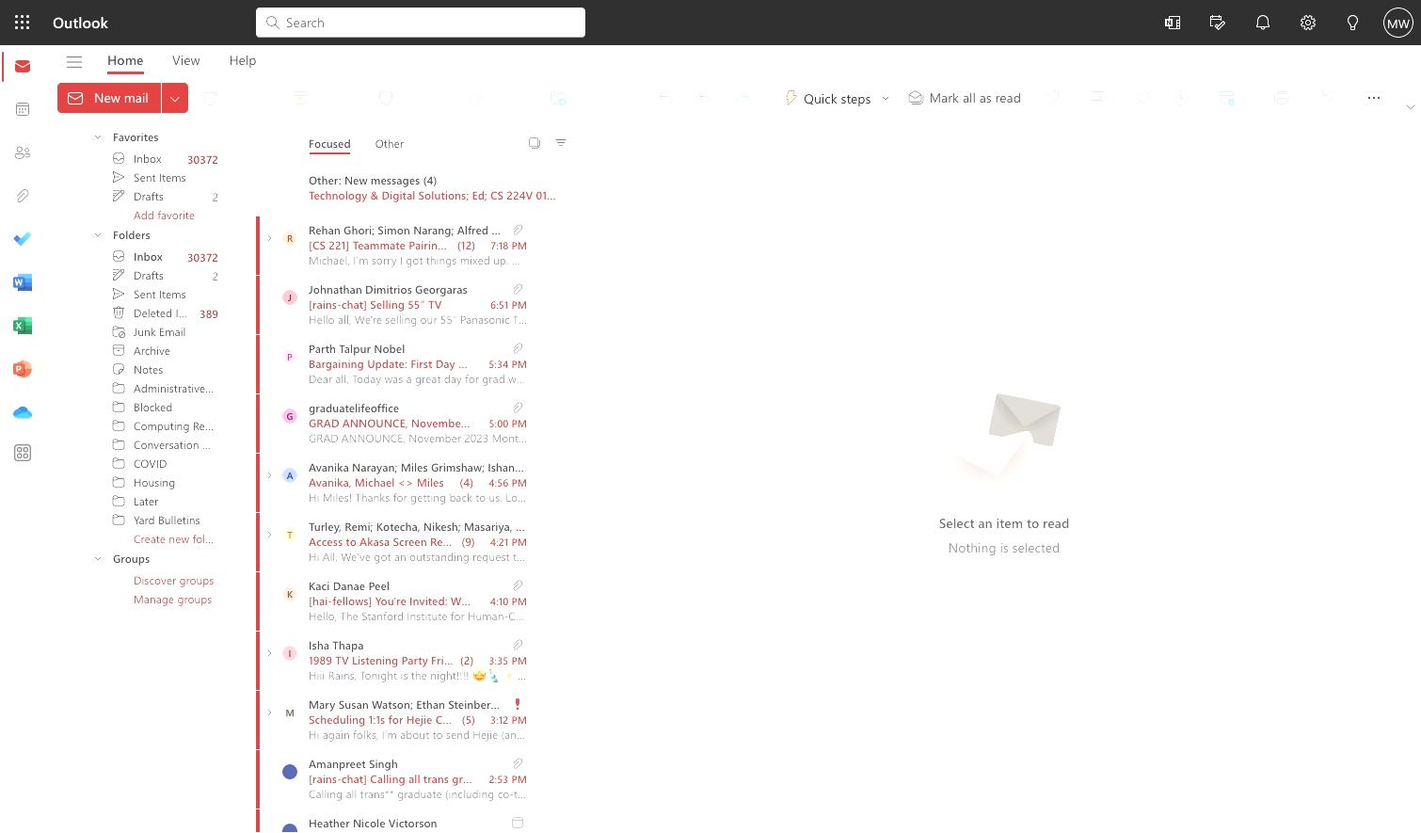webelement: (586, 117, 1420, 832), (255, 159, 584, 831), (52, 117, 253, 832), (53, 78, 1401, 116), (67, 246, 235, 547), (605, 504, 1401, 534), (56, 78, 638, 116), (255, 393, 567, 453), (255, 571, 567, 631), (255, 749, 567, 809), (255, 216, 567, 275), (255, 275, 567, 334), (255, 334, 567, 393), (255, 453, 567, 512), (255, 512, 567, 571), (255, 631, 567, 690), (255, 690, 567, 749), (776, 78, 1253, 116), (67, 118, 235, 223), (3, 44, 40, 434), (255, 809, 567, 833), (308, 518, 786, 533), (67, 569, 235, 607), (283, 11, 573, 31), (308, 533, 671, 548), (92, 44, 270, 73), (308, 592, 644, 607), (647, 78, 768, 116), (308, 696, 613, 711), (308, 770, 597, 785), (308, 711, 576, 726), (308, 355, 575, 370), (308, 458, 571, 473), (308, 221, 567, 236), (67, 125, 235, 148), (67, 223, 235, 246), (67, 547, 235, 569), (308, 236, 527, 251), (308, 251, 526, 266), (308, 311, 526, 326), (308, 370, 526, 385), (308, 429, 526, 444), (308, 489, 526, 504), (308, 548, 526, 563), (308, 607, 526, 622), (308, 666, 526, 681), (308, 726, 526, 741), (308, 785, 526, 800), (906, 83, 1022, 111), (67, 148, 235, 167), (67, 185, 235, 204), (67, 204, 235, 223), (67, 264, 235, 283), (67, 283, 235, 302), (67, 302, 235, 321), (67, 321, 235, 340), (67, 340, 235, 359), (67, 377, 235, 396), (67, 396, 235, 415), (67, 415, 235, 434), (67, 434, 235, 453), (67, 453, 235, 472), (67, 490, 235, 509), (67, 509, 235, 528), (67, 528, 235, 547), (67, 569, 235, 588), (67, 588, 235, 607), (308, 651, 520, 666), (67, 167, 235, 185), (67, 246, 235, 264), (67, 359, 235, 377), (67, 472, 235, 490), (308, 414, 496, 429), (948, 534, 1060, 558), (308, 280, 467, 296), (548, 83, 637, 111), (52, 0, 107, 44), (65, 83, 150, 111), (308, 473, 443, 489), (1239, 0, 1285, 44), (308, 296, 441, 311), (1149, 0, 1194, 44), (1194, 0, 1239, 44), (1285, 0, 1330, 44), (1330, 0, 1375, 44), (1375, 0, 1420, 44), (0, 0, 44, 44), (308, 814, 437, 829), (290, 83, 357, 111), (781, 87, 872, 107), (308, 121, 350, 163), (467, 83, 529, 111), (375, 84, 439, 110), (200, 84, 263, 110), (110, 128, 217, 143), (110, 226, 217, 241), (110, 550, 217, 565), (295, 131, 362, 153), (1354, 78, 1392, 116), (308, 340, 404, 355), (3, 47, 40, 85), (3, 90, 40, 128), (3, 177, 40, 215), (3, 220, 40, 258), (3, 350, 40, 388), (3, 393, 40, 431), (3, 434, 40, 472), (3, 134, 40, 171), (3, 264, 40, 301), (3, 307, 40, 344), (930, 89, 1021, 104), (308, 399, 398, 414), (308, 755, 397, 770), (133, 168, 213, 184), (133, 360, 213, 376), (133, 473, 213, 489), (133, 206, 217, 221), (133, 342, 217, 357), (133, 530, 217, 545), (133, 571, 217, 586), (133, 590, 217, 605), (308, 577, 389, 592), (133, 285, 213, 300), (133, 323, 213, 338), (133, 379, 213, 394), (133, 398, 213, 413), (133, 417, 213, 432), (133, 436, 213, 451), (133, 455, 213, 470), (133, 492, 213, 507), (133, 511, 213, 526), (103, 45, 147, 72), (375, 121, 403, 163), (362, 131, 415, 153), (684, 82, 722, 112), (1262, 82, 1300, 112), (1308, 82, 1346, 112), (647, 82, 684, 112), (1124, 82, 1161, 112), (133, 187, 202, 202), (133, 266, 202, 281), (1041, 83, 1077, 111), (1217, 83, 1253, 111), (1171, 83, 1206, 111), (58, 45, 88, 77), (168, 45, 203, 72), (225, 45, 260, 72), (133, 304, 189, 319), (93, 89, 148, 104), (278, 283, 308, 310), (278, 461, 308, 488), (472, 474, 526, 489), (308, 636, 362, 651), (278, 698, 308, 725), (161, 82, 187, 112), (278, 224, 308, 250), (474, 296, 526, 311), (278, 343, 308, 369), (278, 402, 308, 428), (278, 521, 308, 547), (278, 580, 308, 606), (278, 639, 308, 665), (278, 758, 308, 784), (472, 356, 526, 370), (472, 415, 526, 429), (472, 652, 526, 666), (472, 771, 526, 785), (474, 237, 526, 251), (474, 534, 526, 548), (474, 593, 526, 607), (474, 712, 526, 726), (570, 89, 618, 104), (547, 128, 573, 154), (1164, 0, 1179, 44), (1209, 0, 1224, 44), (1300, 0, 1315, 44), (1345, 0, 1360, 44), (133, 150, 177, 165), (133, 248, 177, 263), (1364, 79, 1382, 115), (312, 89, 355, 104), (398, 89, 438, 104), (223, 89, 261, 104), (489, 89, 527, 104), (78, 124, 106, 144), (78, 222, 106, 242), (78, 546, 106, 566), (656, 83, 675, 111), (1133, 83, 1152, 111), (1271, 83, 1290, 111), (1317, 83, 1336, 111), (694, 83, 712, 111), (186, 248, 217, 264), (731, 84, 750, 110), (1087, 84, 1106, 110), (308, 829, 430, 833), (520, 132, 547, 150), (106, 53, 143, 66), (278, 817, 308, 833), (186, 151, 217, 166), (265, 82, 280, 112), (442, 82, 457, 112), (753, 82, 768, 112), (1109, 82, 1124, 112), (878, 83, 892, 111), (171, 53, 200, 66), (12, 56, 31, 75), (12, 100, 31, 119), (12, 143, 31, 162), (12, 186, 31, 205), (12, 443, 31, 462), (165, 88, 184, 107), (229, 53, 256, 66), (1401, 97, 1418, 116), (199, 305, 217, 320), (456, 236, 474, 251), (281, 585, 296, 601), (265, 89, 280, 104), (442, 89, 457, 104), (753, 89, 768, 104), (1109, 89, 1124, 104), (261, 230, 276, 245), (281, 230, 296, 245), (281, 289, 296, 304), (281, 348, 296, 363), (281, 408, 296, 423), (261, 467, 276, 482), (281, 467, 296, 482), (261, 526, 276, 541), (281, 526, 296, 541), (261, 645, 276, 660), (281, 645, 296, 660), (261, 704, 276, 719), (281, 704, 296, 719), (281, 763, 296, 778), (458, 473, 472, 489), (460, 533, 474, 548), (459, 651, 473, 666), (460, 711, 474, 726), (207, 186, 217, 204), (207, 265, 217, 283), (474, 830, 526, 833), (281, 823, 296, 833), (212, 188, 217, 203), (212, 267, 217, 282), (106, 97, 107, 98), (231, 97, 232, 98), (605, 26, 606, 27), (497, 97, 498, 98), (592, 97, 593, 98), (665, 97, 666, 98), (703, 97, 704, 98), (741, 97, 742, 98), (964, 97, 965, 98), (1058, 97, 1059, 98), (1095, 97, 1096, 98), (1188, 97, 1189, 98), (1234, 97, 1235, 98), (1280, 97, 1281, 98), (1326, 97, 1327, 98), (67, 118, 68, 119), (217, 149, 218, 150), (217, 186, 218, 187), (74, 255, 75, 256), (217, 247, 218, 248), (217, 265, 218, 266), (217, 303, 218, 304), (407, 97, 407, 98), (1142, 97, 1142, 98)
